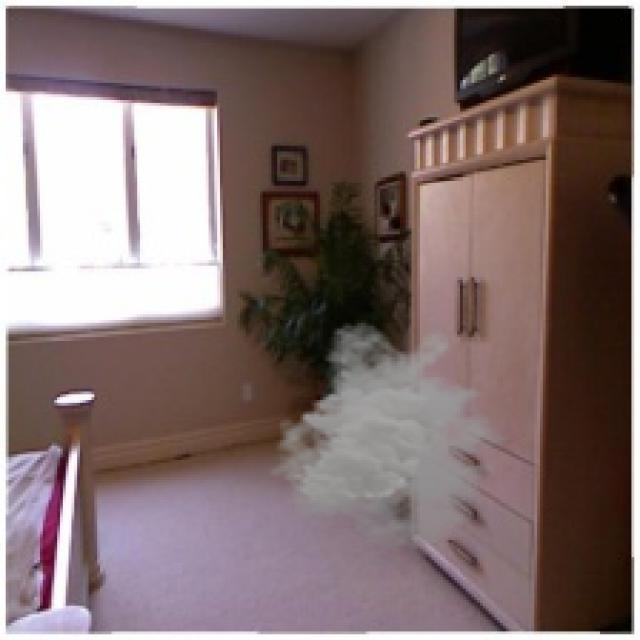Smoke: (266, 319, 518, 552)
